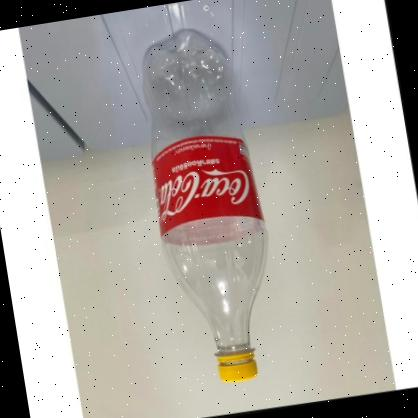bottle: (126, 19, 292, 394)
cap: (216, 345, 260, 386)
label: (146, 128, 268, 251)
